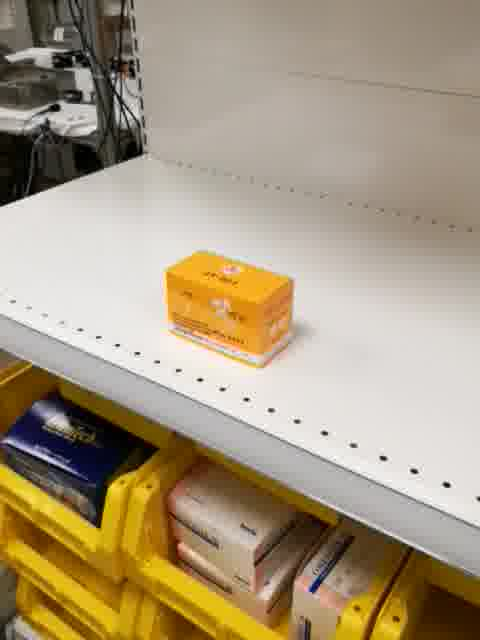jasminetea: (164, 245, 294, 374)
